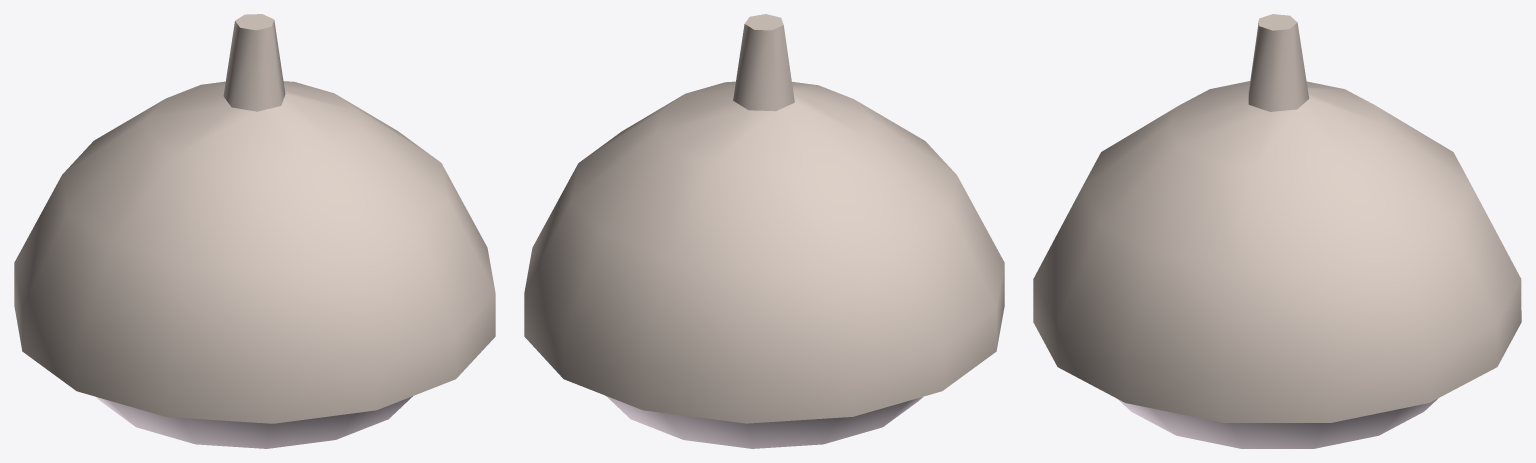
The model's file is light01a_off.fbx.
3 renders of one model, left to right at view 1: azimuth 30°, elevation 25°; view 2: azimuth 150°, elevation 25°; view 3: azimuth 270°, elevation 25°, orthographic.
Visible parts, largest first — view 1: light01a_off_reference; view 2: light01a_off_reference; view 3: light01a_off_reference.
Part boxes in pixels (x1,y1,x2,y2): light01a_off_reference: [14, 14, 495, 448]; light01a_off_reference: [524, 14, 1004, 448]; light01a_off_reference: [1033, 14, 1521, 448].
Bounding box in the file's own units: 1987 × 1835 × 2040.
